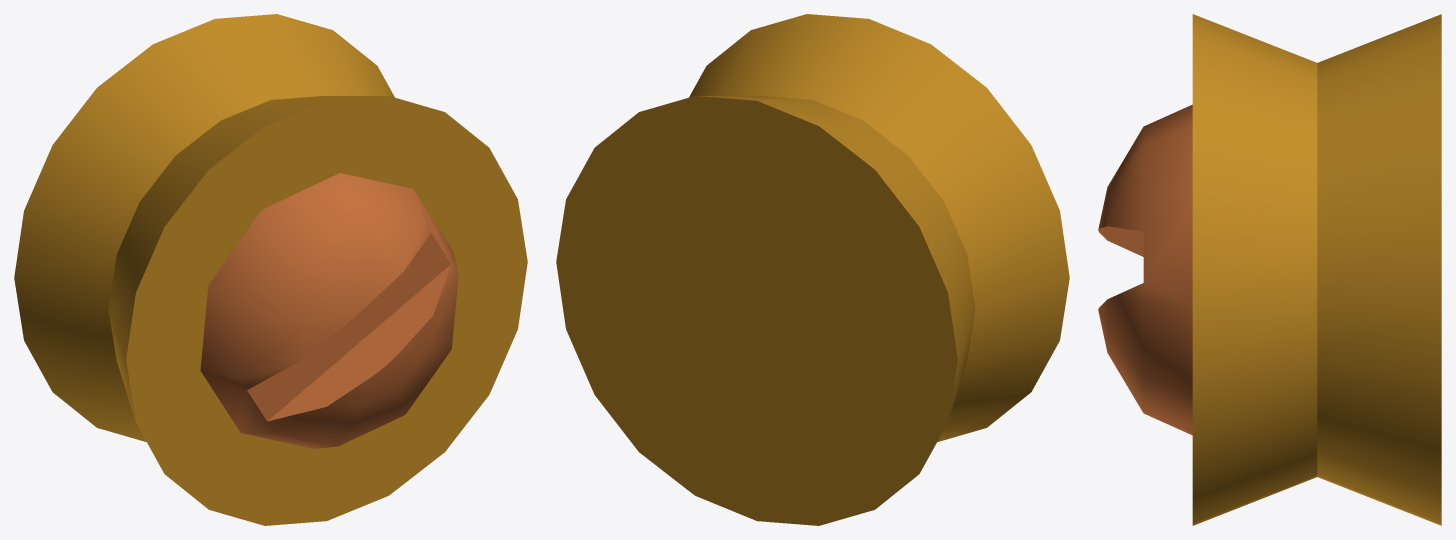
The model's file is ZipLine_Fastener.fbx.
3 views of the same model, side by side, from view 1: azimuth 30°, elevation 25°; view 2: azimuth 150°, elevation 25°; view 3: azimuth 270°, elevation 25° (orthographic). The views are drawn at different scales.
Parts seen in each view (by area): view 1: ZipLine_Fastener; view 2: ZipLine_Fastener; view 3: ZipLine_Fastener.
Part boxes in pixels (box(x1,y1,x2,y2)): ZipLine_Fastener: box(14, 14, 527, 525); ZipLine_Fastener: box(556, 14, 1069, 525); ZipLine_Fastener: box(1098, 14, 1441, 525).
Size of the model in its own units: 0.3614 by 0.3614 by 0.2408.
